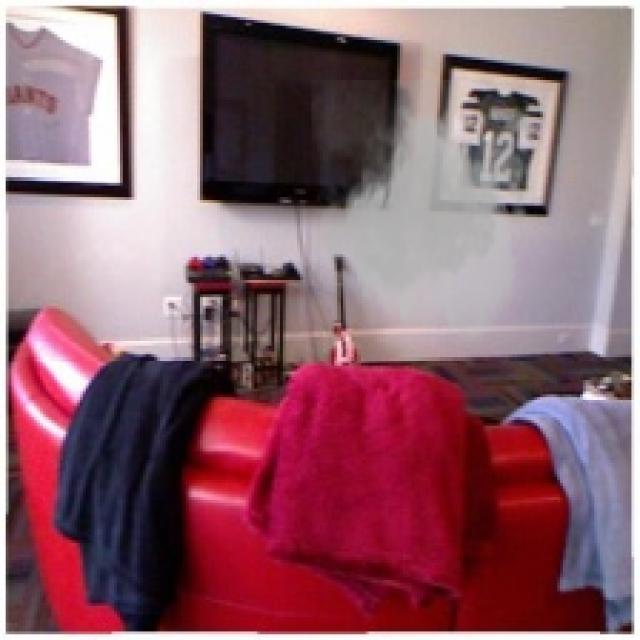Smoke: (312, 80, 542, 346)
